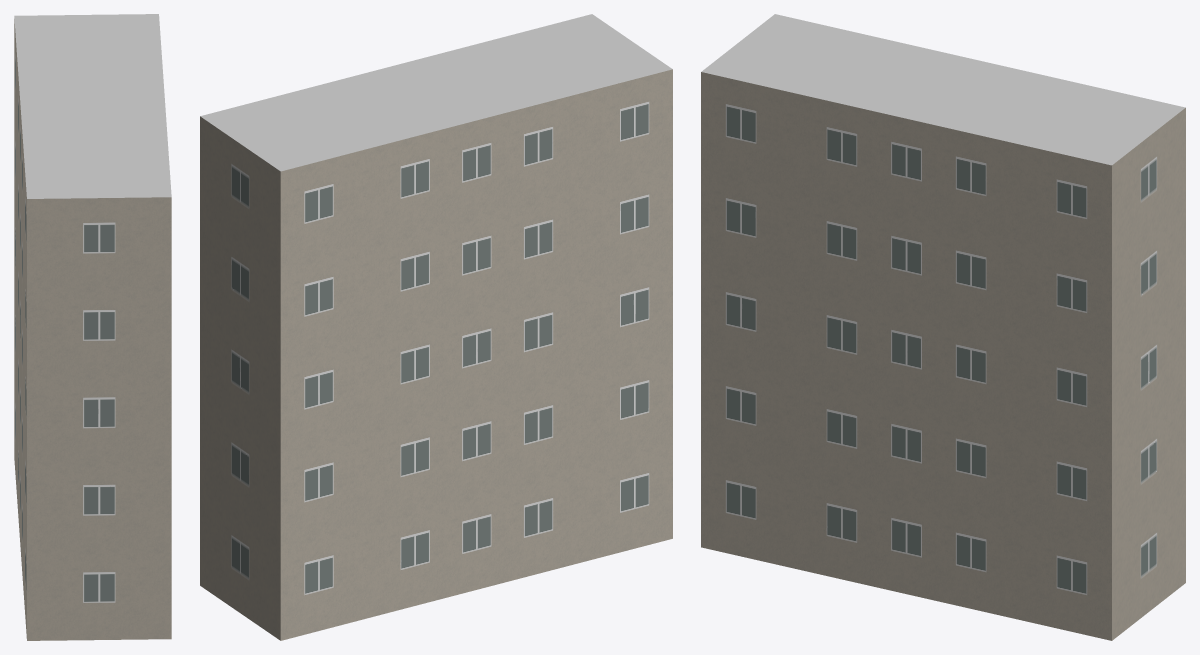
File: building-1-0-50.dae
3 renders of one model, left to right at view 1: azimuth 30°, elevation 25°; view 2: azimuth 150°, elevation 25°; view 3: azimuth 270°, elevation 25°, orthographic. The views are drawn at different scales.
Parts seen in each view (by area): view 1: geopipeinodev-XAohEV (×3); view 2: geopipeinodev-XAohEV (×3); view 3: geopipeinodev-XAohEV (×3).
Boxes of the visible parts, box(x1,y1,x2,y2) form: geopipeinodev-XAohEV (×3): box(14, 14, 171, 640); geopipeinodev-XAohEV (×3): box(200, 14, 672, 640); geopipeinodev-XAohEV (×3): box(701, 14, 1185, 640).
Bounding box in the file's own units: 14.15 × 19.13 × 20.7.
